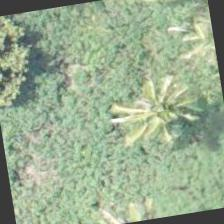Kelapa_Sawit: (104, 57, 208, 160)
